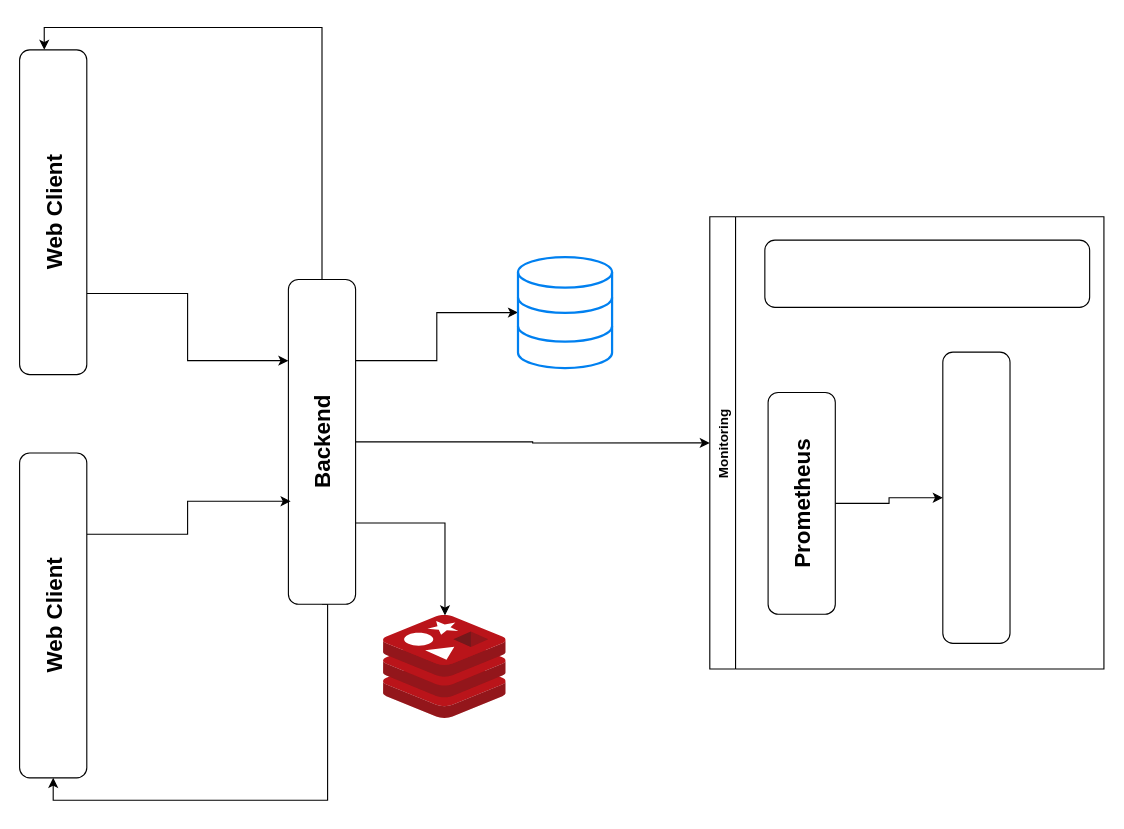
Some shapes in this 1124 by 829 pixel diagram are drawn without their labels. Each missing label, with the box of its shape:
Grafana: (942, 351, 1010, 643)
Sentry: (764, 239, 1090, 307)
